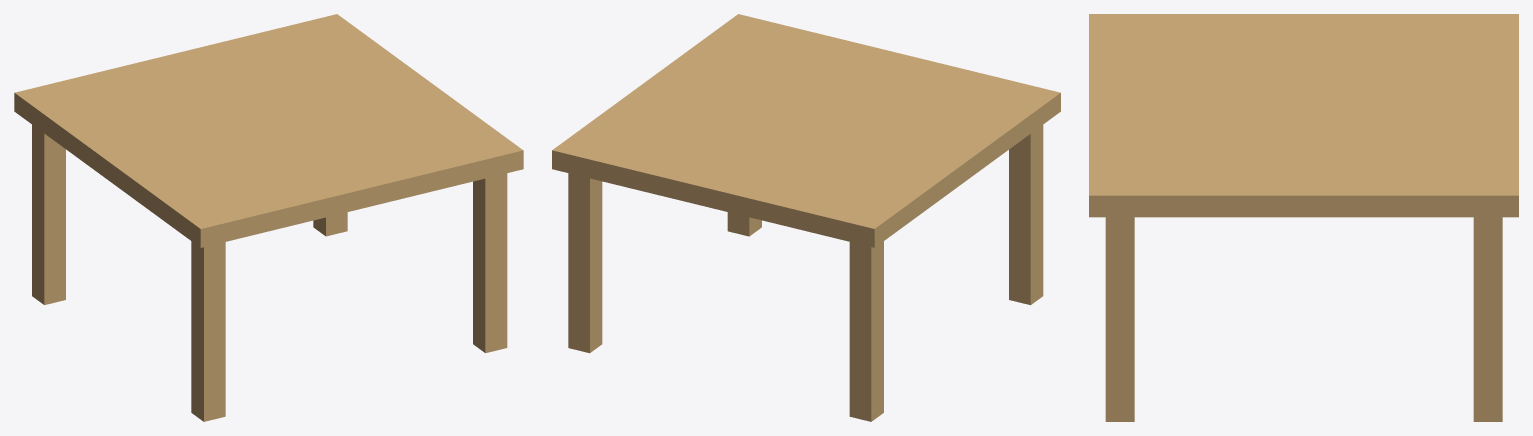
Rendered from TableShort.fbx.
3 views of the same model, side by side, from view 1: azimuth 30°, elevation 25°; view 2: azimuth 150°, elevation 25°; view 3: azimuth 270°, elevation 25° (orthographic). The views are drawn at different scales.
Parts seen in each view (by area): view 1: Cube.009; view 2: Cube.009; view 3: Cube.009.
Boxes of the visible parts, x1=… form: Cube.009: x1=14, y1=14, x2=523, y2=421; Cube.009: x1=552, y1=14, x2=1060, y2=421; Cube.009: x1=1089, y1=14, x2=1518, y2=421.
Bounding box in the file's own units: 518 × 308 × 518.
